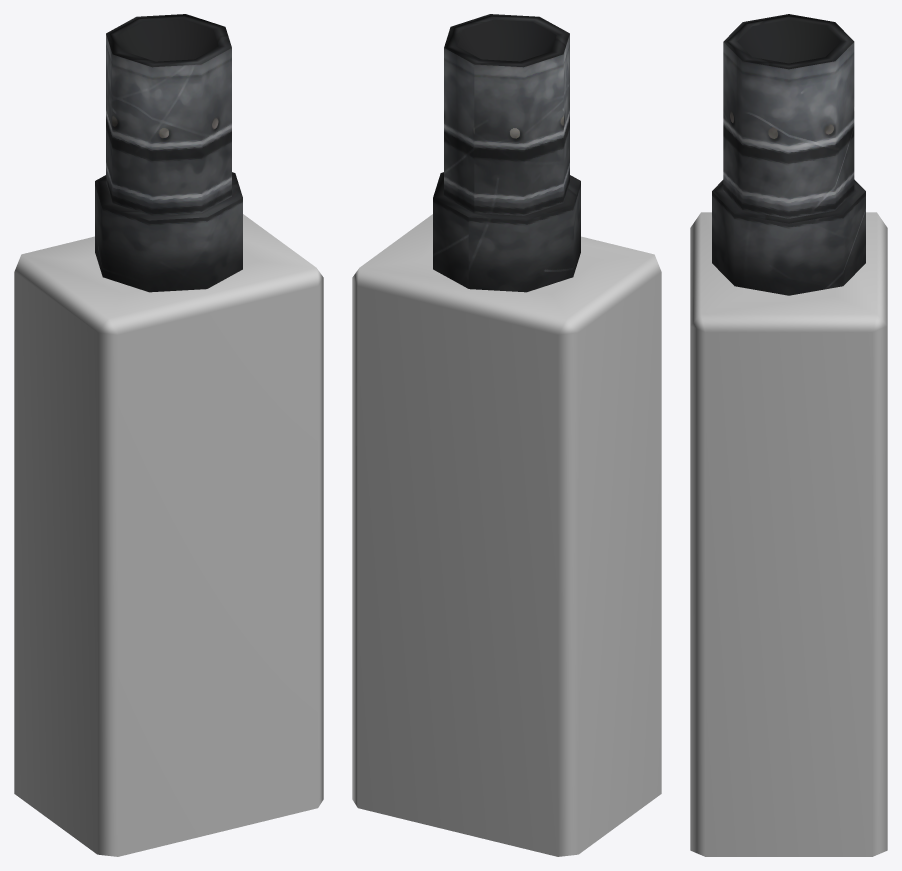
The model's file is Chimney1.fbx.
The picture shows the model from 3 angles, left to right: view 1: azimuth 30°, elevation 25°; view 2: azimuth 150°, elevation 25°; view 3: azimuth 270°, elevation 25°; orthographic projection.
Parts seen in each view (by area): view 1: Mesh; view 2: Mesh; view 3: Mesh.
Boxes of the visible parts, <box> form: Mesh: <box>14,14,323,856</box>; Mesh: <box>352,14,661,856</box>; Mesh: <box>690,14,887,856</box>.
Size of the model in its own units: 152 by 486 by 114.
